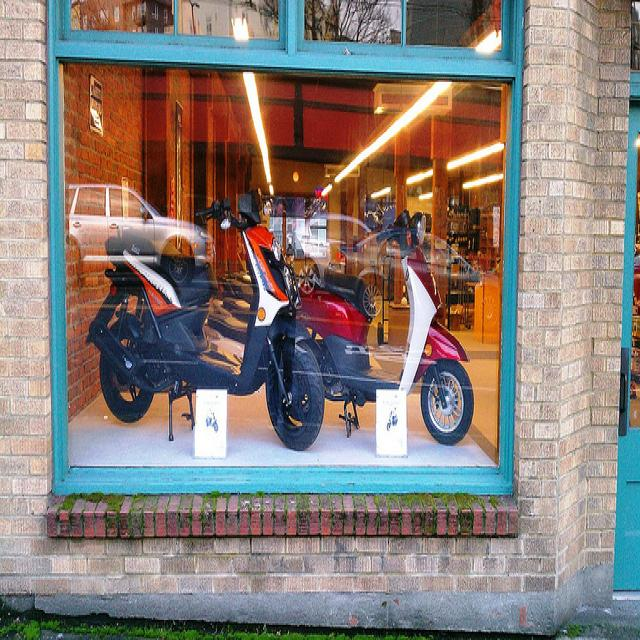motor: (84, 192, 326, 453), (286, 211, 475, 451)
